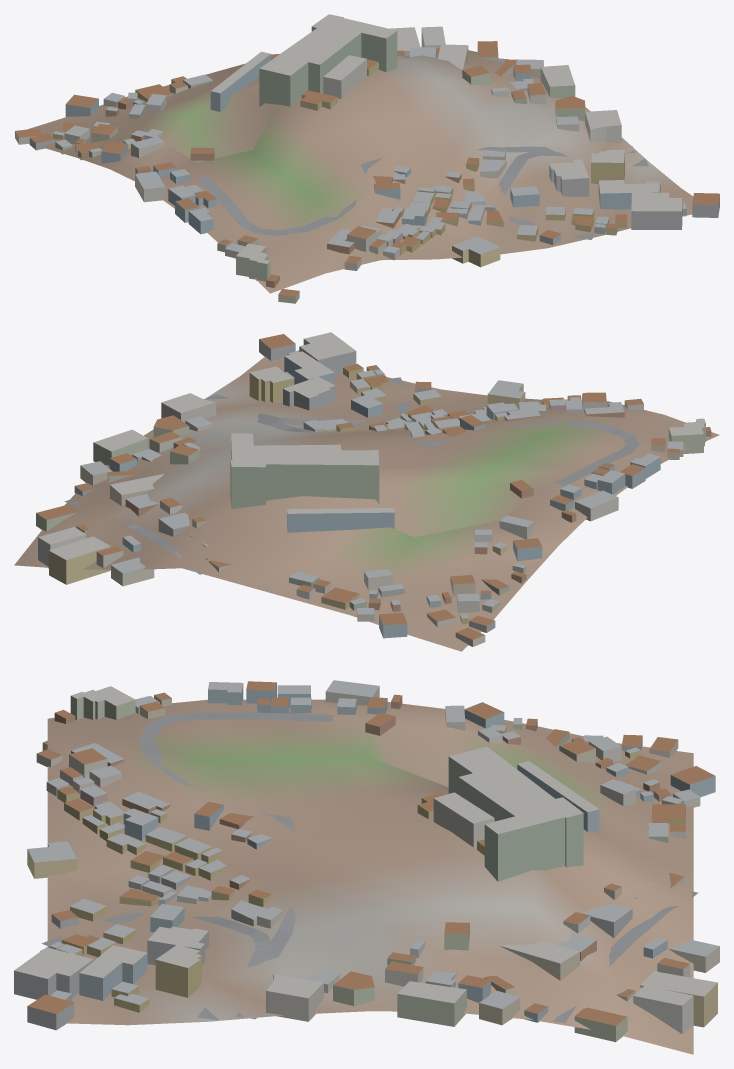
3 views of the same model, one above another, from view 1: azimuth 30°, elevation 25°; view 2: azimuth 150°, elevation 25°; view 3: azimuth 270°, elevation 25° (orthographic). The views are drawn at different scales.
Parts seen in each view (by area): view 1: Lo; view 2: Lo; view 3: Lo.
Boxes of the visible parts, <box> form: Lo: <box>14,14,719,303</box>; Lo: <box>14,332,719,651</box>; Lo: <box>14,680,719,1054</box>.
Bounding box in the file's own units: 273 × 68.17 × 280.
